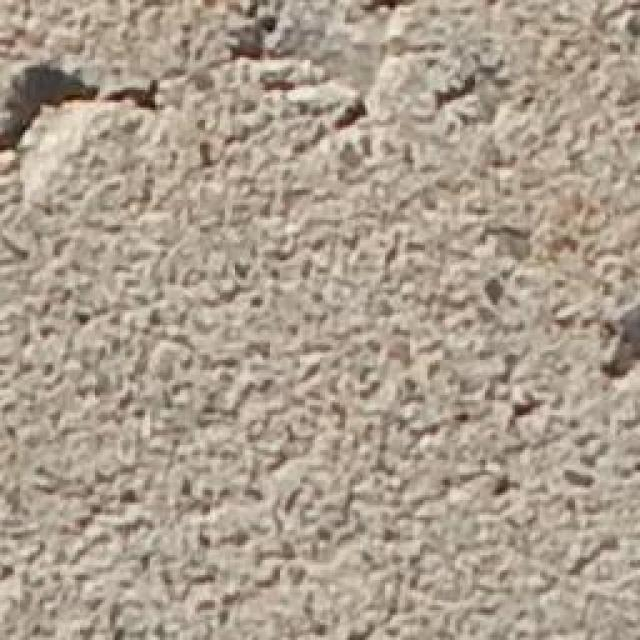concrete-crack: (0, 51, 179, 174), (227, 1, 379, 128)
